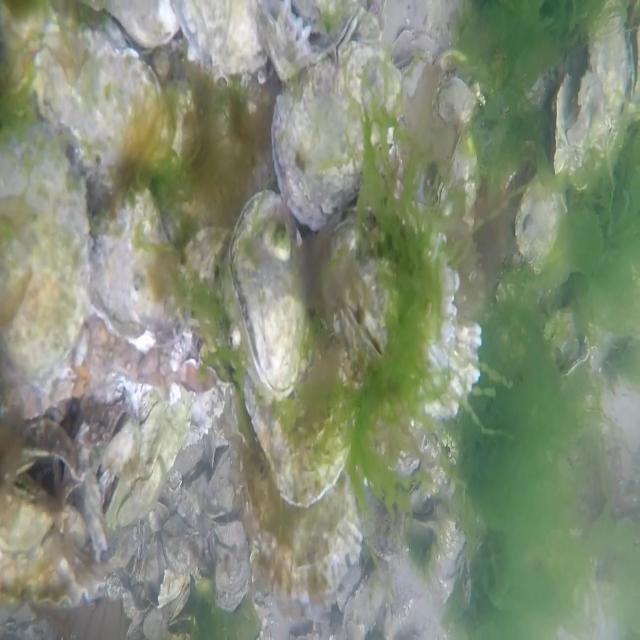Oyster-Closed: (0, 136, 88, 419), (46, 26, 172, 166), (231, 185, 313, 399), (280, 70, 373, 224), (91, 185, 175, 349), (509, 177, 558, 271)
Oyster-Indeterminate: (2, 446, 124, 618), (235, 499, 360, 603), (328, 219, 408, 380), (235, 395, 349, 500), (161, 0, 268, 79), (267, 2, 350, 70)
